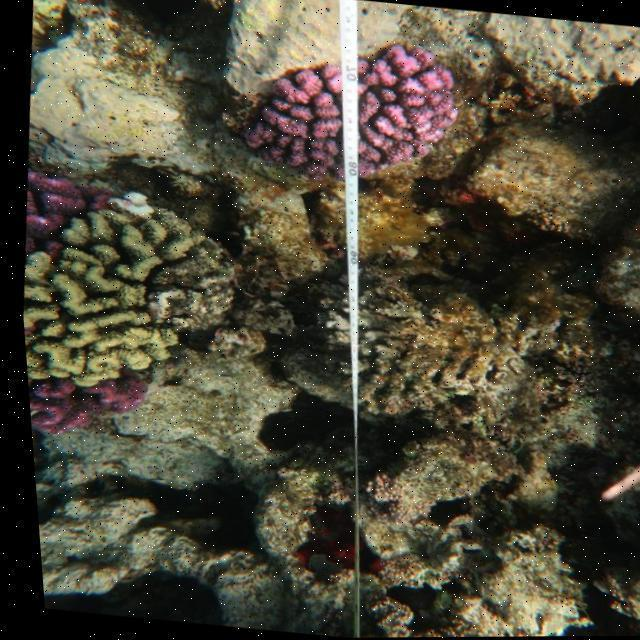Healthy Coral: (222, 14, 478, 207), (22, 228, 180, 369), (20, 386, 158, 438), (38, 147, 98, 253)
